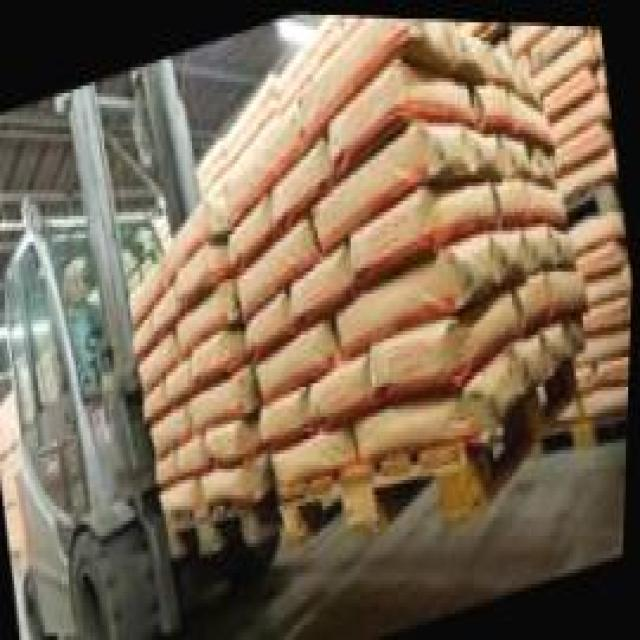gunny_bag: (312, 124, 503, 247), (295, 13, 452, 140), (352, 346, 520, 460), (336, 234, 496, 352), (371, 290, 521, 400), (328, 59, 473, 167), (350, 180, 498, 279), (222, 111, 304, 224), (233, 214, 318, 319), (252, 321, 337, 400), (268, 130, 332, 225), (165, 202, 226, 283), (312, 350, 373, 429), (292, 244, 356, 318), (273, 427, 353, 483), (177, 280, 238, 351), (192, 366, 258, 429), (226, 189, 274, 265), (174, 239, 231, 301), (261, 385, 316, 448), (539, 59, 598, 115), (549, 85, 609, 140), (245, 295, 298, 355), (513, 261, 559, 330), (207, 455, 273, 502), (507, 323, 552, 391), (192, 331, 246, 386), (446, 20, 498, 75), (207, 418, 262, 468), (528, 20, 582, 66), (139, 332, 178, 392), (511, 89, 551, 147), (131, 262, 168, 324), (546, 39, 592, 85), (154, 403, 192, 457), (560, 119, 606, 162), (150, 278, 182, 339), (586, 287, 633, 328), (550, 265, 590, 312), (580, 238, 628, 274), (577, 323, 632, 354), (506, 19, 551, 53), (527, 178, 564, 218), (165, 355, 195, 404), (165, 476, 201, 515), (176, 436, 210, 477), (477, 80, 507, 123), (133, 311, 157, 362), (500, 135, 530, 175), (510, 62, 538, 101), (598, 347, 632, 377), (533, 140, 556, 183), (148, 380, 170, 419), (157, 452, 178, 486)
